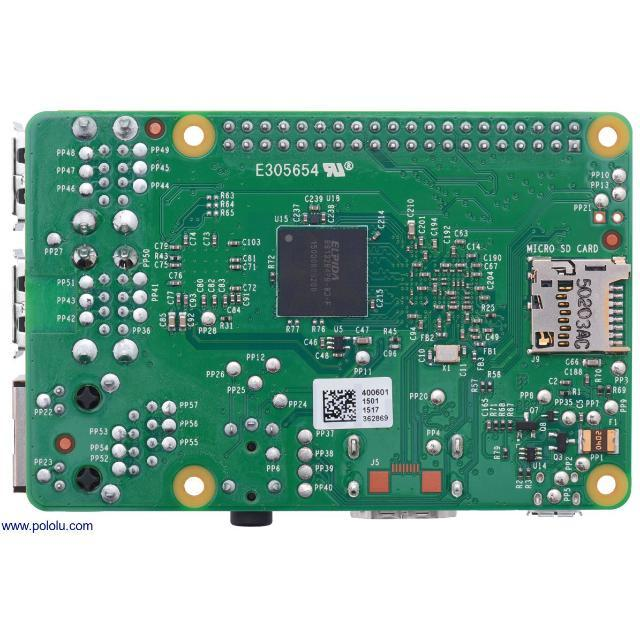Raspberry-Pi-2-B: (26, 111, 633, 524)
